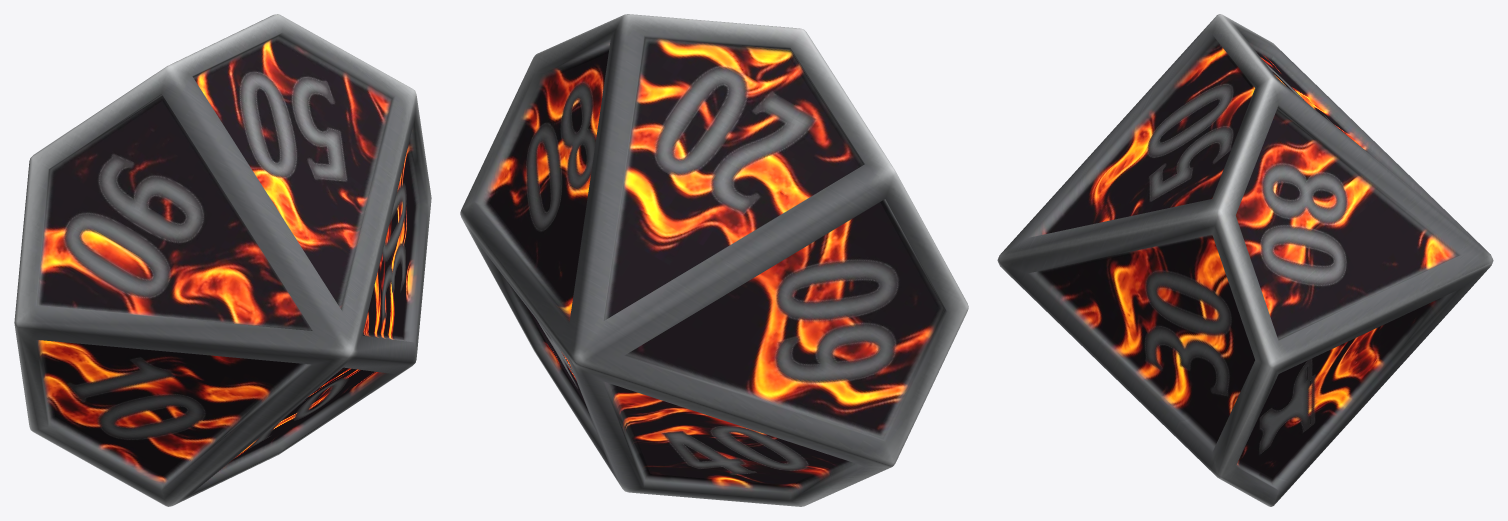
File: dice_100.gltf
3 views of the same model, side by side, from view 1: azimuth 30°, elevation 25°; view 2: azimuth 150°, elevation 25°; view 3: azimuth 270°, elevation 25° (orthographic). The views are drawn at different scales.
Visible parts, largest first — view 1: dice_100; view 2: dice_100; view 3: dice_100.
Part boxes in pixels (x1=…): dice_100: x1=14, y1=14, x2=431, y2=506; dice_100: x1=460, y1=14, x2=968, y2=506; dice_100: x1=997, y1=14, x2=1493, y2=506.
Size of the model in its own units: 177 by 169 by 177.
Materials: 1 (1 with a texture image).
